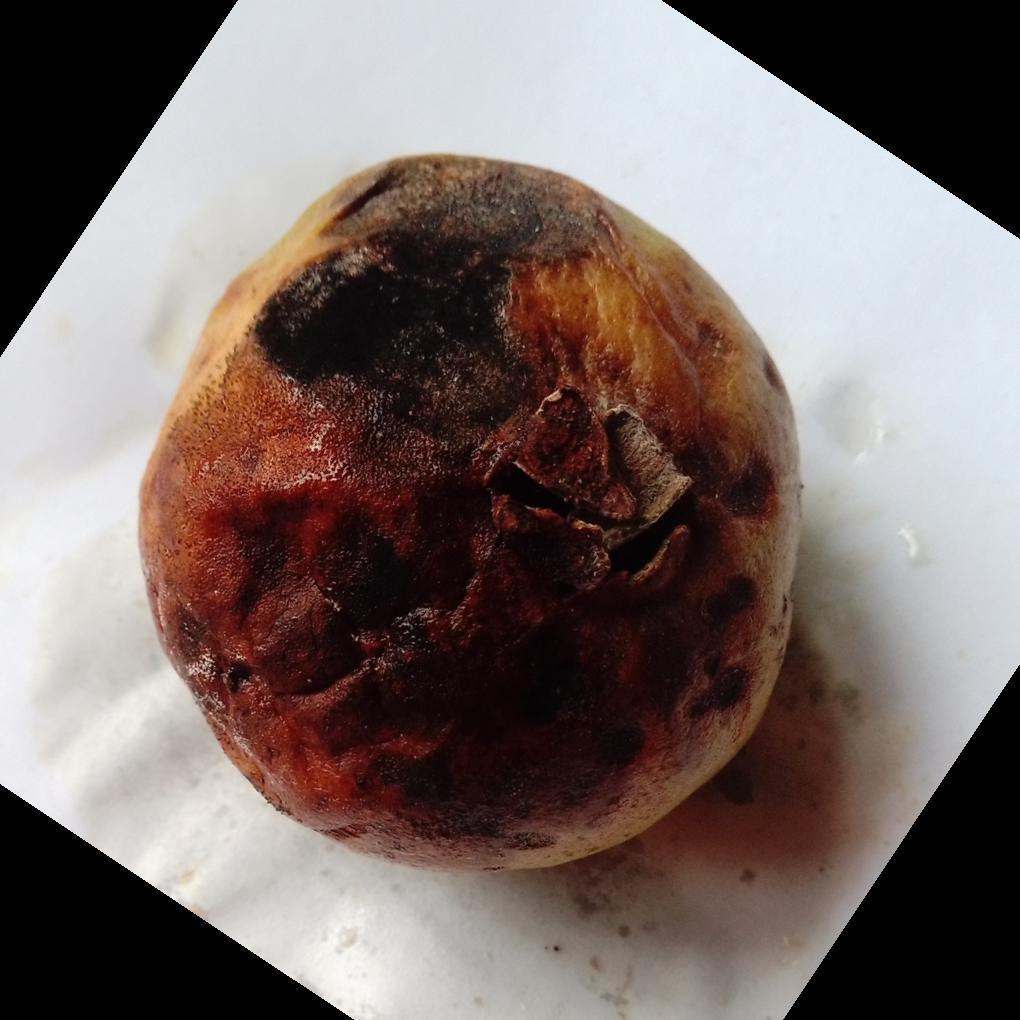FreshOrange: (136, 154, 804, 879)
